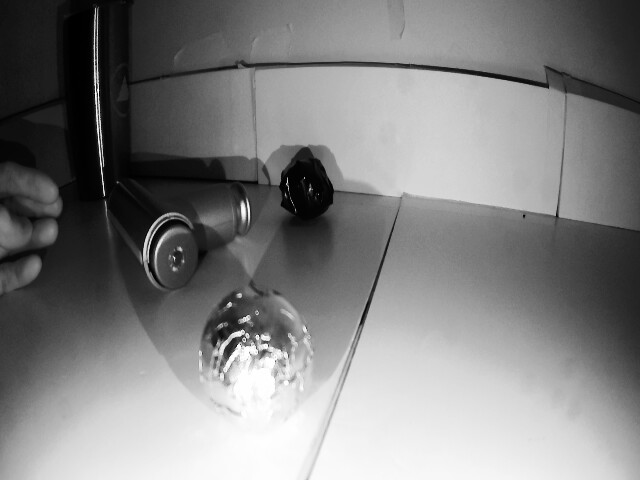black: (268, 153, 345, 231)
silver: (186, 285, 332, 432)
